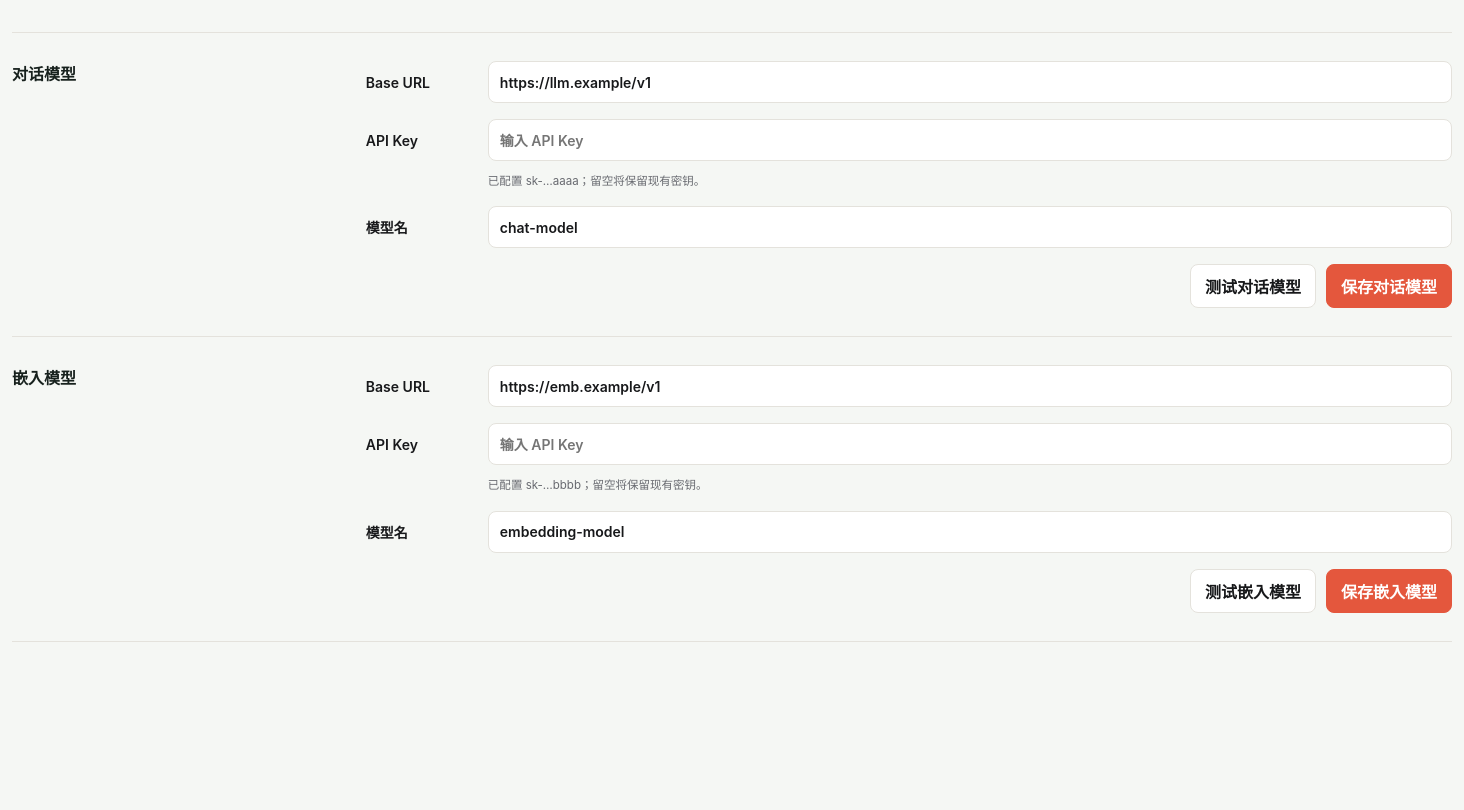
Test: model settings form › tests a draft without saving and reports measured embedding details
Click the button "测试嵌入模型" at (1253, 590), box [1190, 568, 1316, 612]
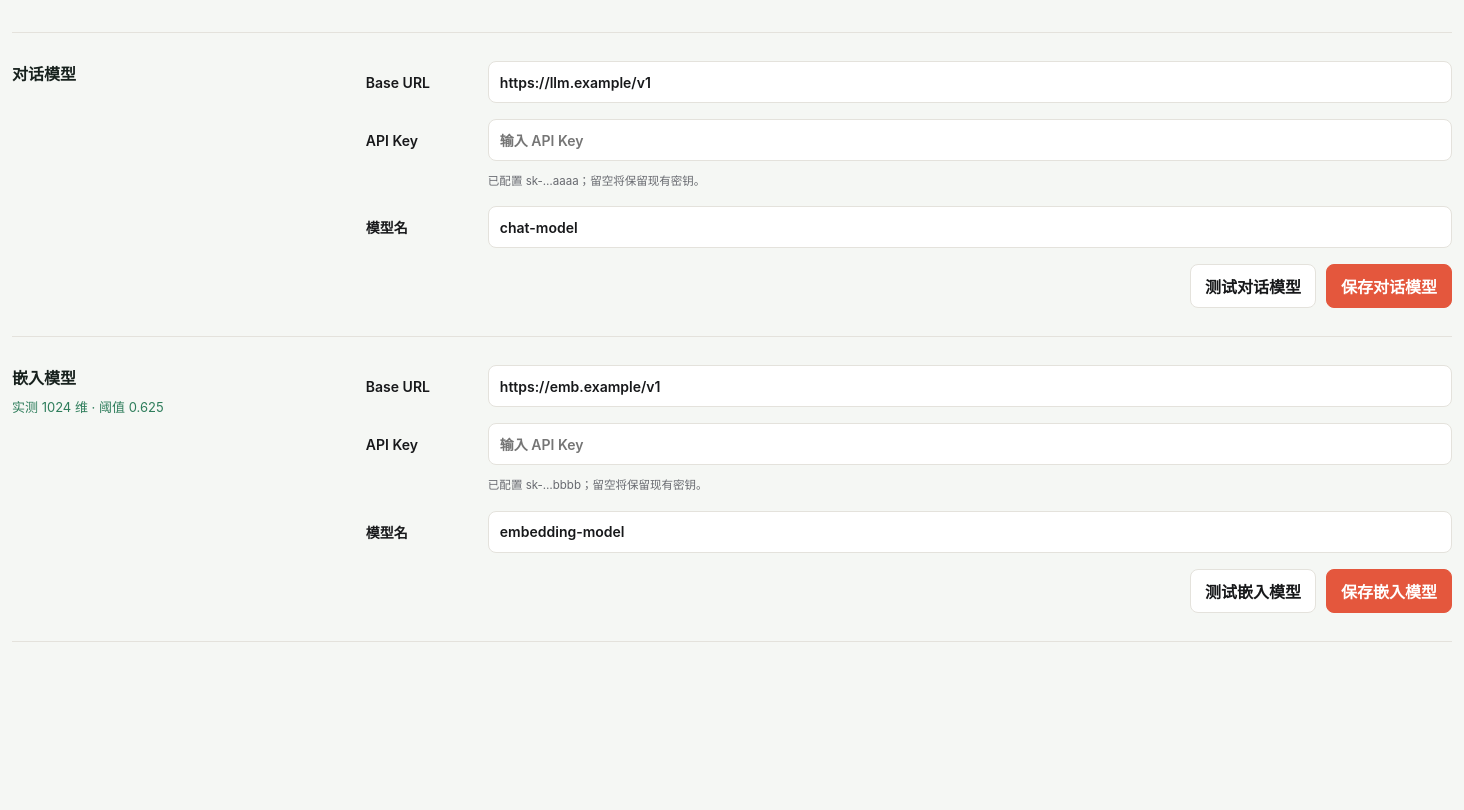
Expected: the text "实测 1024 维 · 阈值 0.625" is shown, [12, 399, 164, 415]
